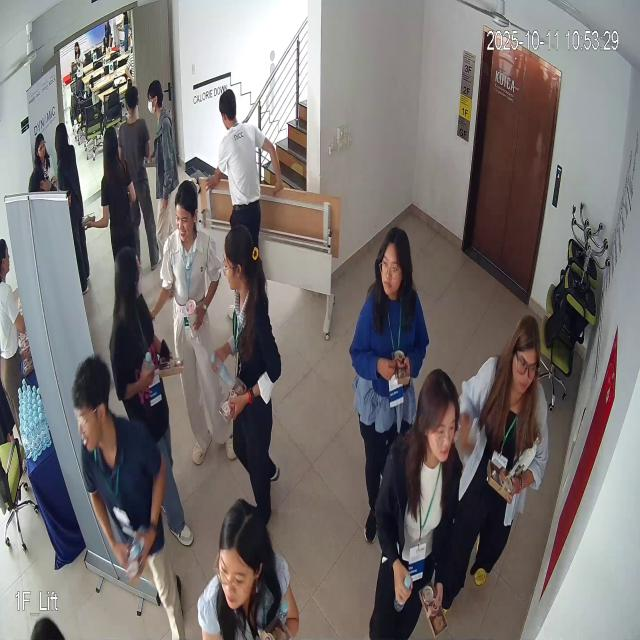face: (416, 361, 461, 468), (507, 307, 542, 402), (374, 222, 413, 300), (174, 181, 202, 248)
